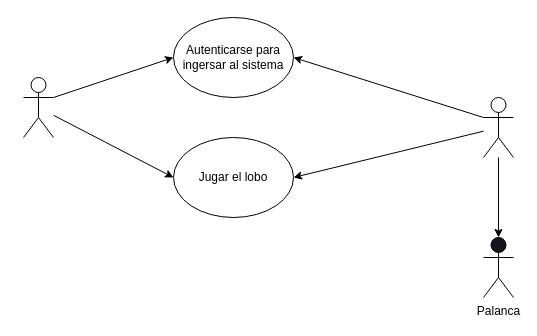
The diagram is 537 pixels wide and 336 high, and some of its shapes have lost their labels. The centre of each missing label's shape, as x and y in pixels:
App: pixel 498 127
Jugador: pixel 38 107
